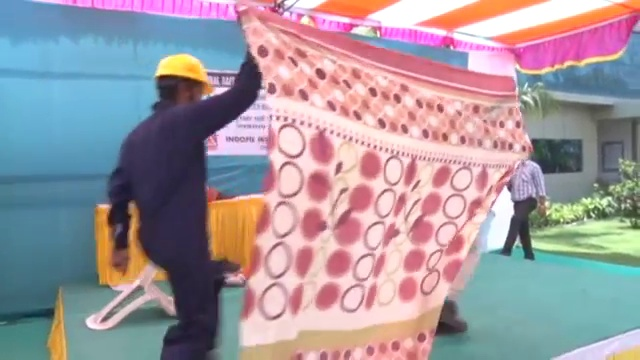helmet: (153, 51, 213, 92)
helmet_on: (153, 51, 214, 107)
person: (103, 45, 262, 360), (499, 157, 552, 260)
